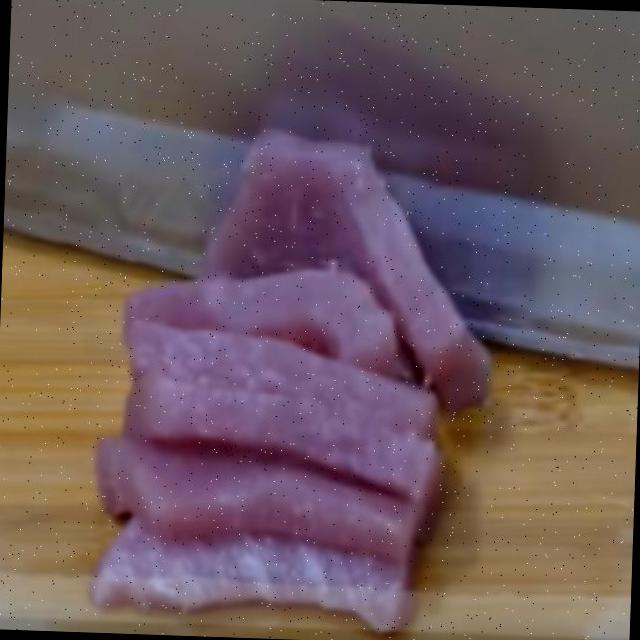pork: (62, 419, 440, 630), (128, 312, 461, 486), (226, 116, 474, 325), (113, 266, 414, 362)
